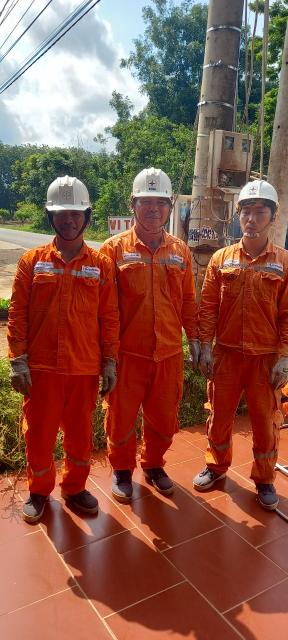gloves: (2, 346, 54, 412), (92, 354, 125, 408), (262, 347, 288, 406), (195, 336, 215, 385), (190, 333, 202, 375)
helmet: (37, 164, 105, 238), (224, 170, 284, 223), (122, 158, 182, 210)
shoes: (4, 489, 60, 531), (101, 451, 138, 512), (56, 476, 100, 520), (189, 461, 234, 500), (242, 471, 276, 518), (136, 461, 173, 500)
